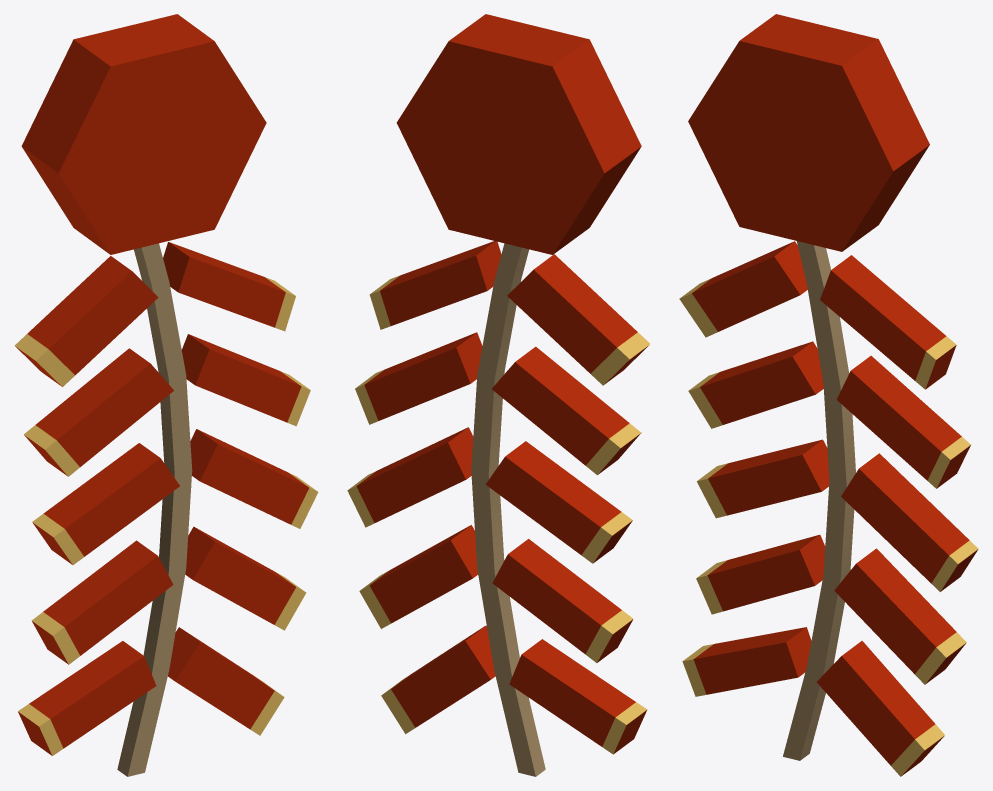
Rendered from bomb_tool.fbx.
3 renders of one model, left to right at view 1: azimuth 30°, elevation 25°; view 2: azimuth 150°, elevation 25°; view 3: azimuth 330°, elevation 25°, orthographic.
Parts seen in each view (by area): view 1: bomb; view 2: bomb; view 3: bomb.
Boxes of the visible parts, x1,y1,x2,y2 form: bomb: (14, 14, 318, 776); bomb: (347, 14, 649, 776); bomb: (679, 14, 978, 776).
Bounding box in the file's own units: 1.91 × 4.71 × 0.4356.
